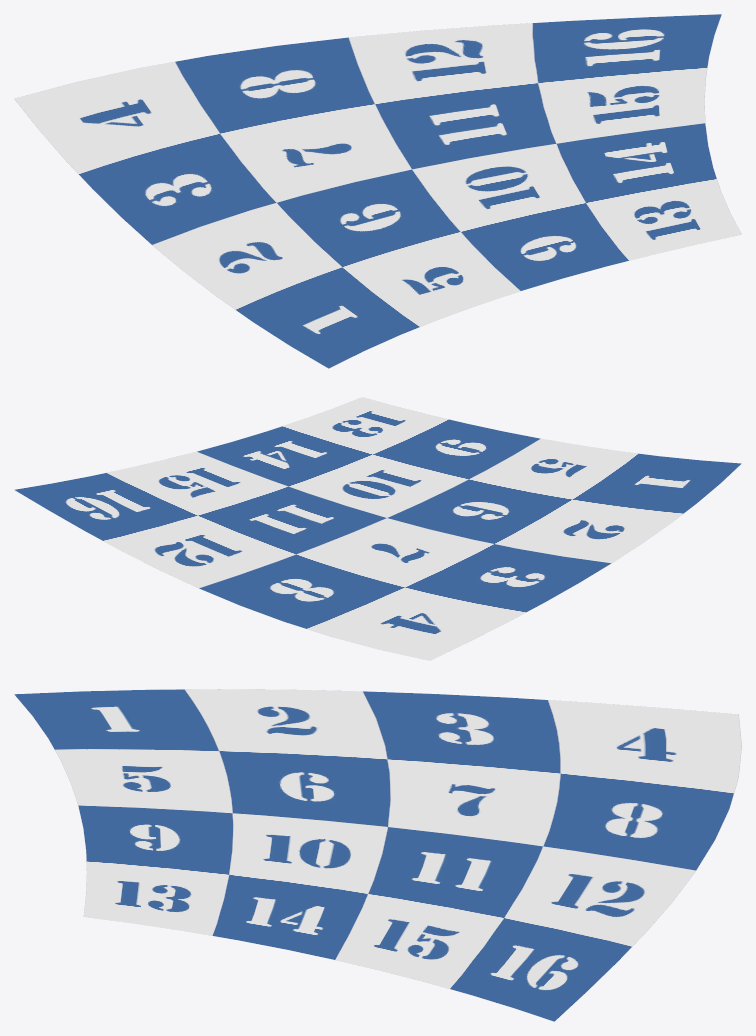
The model's file is SwordTrail2.fbx.
The picture shows the model from 3 angles, top to bottom: view 1: azimuth 30°, elevation 25°; view 2: azimuth 150°, elevation 25°; view 3: azimuth 270°, elevation 25°; orthographic projection. The views are drawn at different scales.
Visible parts, largest first — view 1: SM_e_cmn_SwordBlur002; view 2: SM_e_cmn_SwordBlur002; view 3: SM_e_cmn_SwordBlur002.
Part boxes in pixels (x1,y1,x2,y2): SM_e_cmn_SwordBlur002: (14,14,741,368); SM_e_cmn_SwordBlur002: (14,397,741,660); SM_e_cmn_SwordBlur002: (14,689,741,1021).
Bounding box in the file's own units: 83.41 × 6.26e-15 × 77.13.
